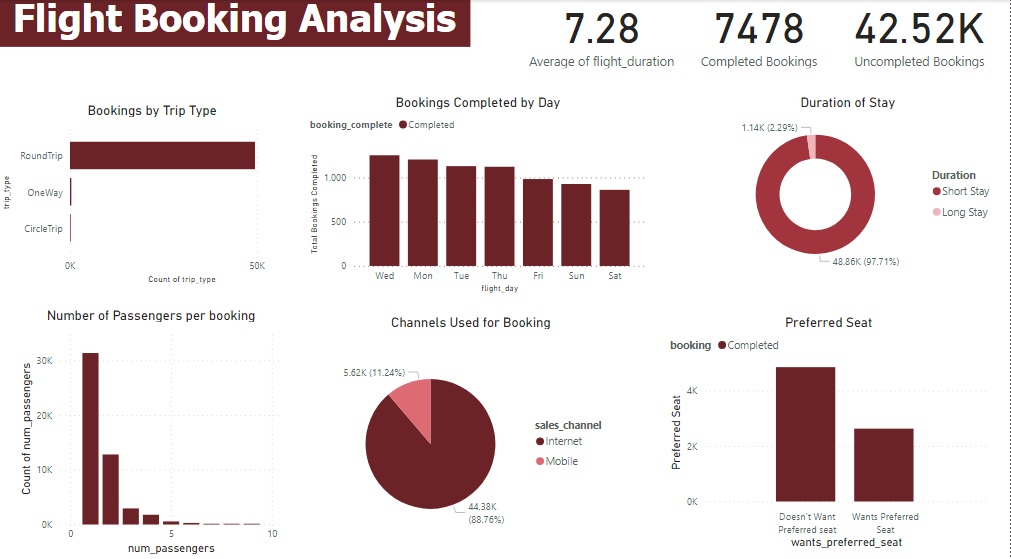

What the dashboard file says about the page in this screenshot:
{"tool":"powerbi","page":{"name":"Analysis ","canvas":[1280,720],"ordinal":0},"visuals":[{"type":"card","fields":{"Values":["CountNonNull(customer_booking.booking_complete)"]},"box":[863.4,0,199.9,104.1],"z":0},{"type":"card","fields":{"Values":["CountNonNull(customer_booking.booking_complete)"]},"box":[1051.5,0,228.5,104.1],"z":1000},{"type":"card","fields":{"Values":["Avg(customer_booking.flight_duration)"]},"box":[645,0,236.9,104.1],"z":2000},{"type":"clusteredColumnChart","title":"Bookings Completed by Day","fields":{"Category":["customer_booking.flight_day"],"Y":["CountNonNull(customer_booking.flight_day)"],"Series":["customer_booking.booking_complete"]},"box":[390,131.7,435,256.7],"z":3000},{"type":"textbox","box":[0,0,598,72.2],"z":4000},{"type":"pieChart","title":"Channels Used for Booking","fields":{"Category":["customer_booking.sales_channel"],"Y":["CountNonNull(customer_booking.booking_complete)"]},"box":[410,410,376.7,310],"z":5000},{"type":"clusteredBarChart","title":"Bookings by Trip Type","fields":{"Category":["customer_booking.trip_type"],"Y":["CountNonNull(customer_booking.trip_type)"]},"box":[0,141.7,390,235],"z":6000},{"type":"columnChart","title":"Number of Passengers per booking","fields":{"Category":["customer_booking.num_passengers"],"Y":["CountNonNull(customer_booking.num_passengers)"]},"box":[23.3,401.7,341.7,318.3],"z":7000},{"type":"columnChart","title":"Preferred Seat","fields":{"Category":["customer_booking.wants_preferred_seat"],"Y":["CountNonNull(customer_booking.wants_preferred_seat)"],"Series":["customer_booking.booking_complete"]},"box":[845,410,411.7,301.7],"z":8000},{"type":"donutChart","title":"Duration of Stay","fields":{"Category":["customer_booking.Duration"],"Y":["CountNonNull(customer_booking.Duration)"]},"box":[881.7,131.7,386.7,235],"z":9000}]}

Visuals, with their boxes in screenshot pixels (x1, y1, x2, y2), scaled from the page's 1280x720 canvas onto the 1011x559 screenshot:
card - CountNonNull(customer_booking.booking_complete): 682:0:840:81
card - CountNonNull(customer_booking.booking_complete): 831:0:1010:81
card - Avg(customer_booking.flight_duration): 509:0:697:81
"Bookings Completed by Day" clusteredColumnChart: 308:102:652:302
textbox: 0:0:472:56
"Channels Used for Booking" pieChart: 324:318:621:558
"Bookings by Trip Type" clusteredBarChart: 0:110:308:292
"Number of Passengers per booking" columnChart: 18:312:288:558
"Preferred Seat" columnChart: 667:318:993:553
"Duration of Stay" donutChart: 696:102:1002:285
